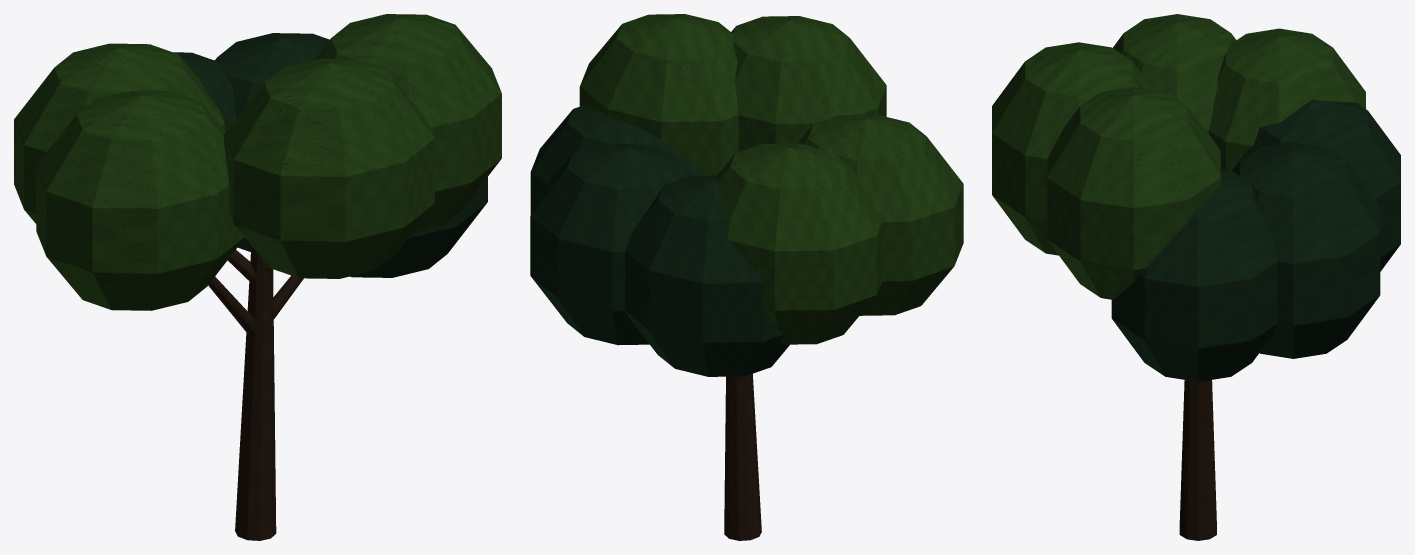
File: PROP-0D643D1E1EEE_lod1.glb
3 views of the same model, side by side, from view 1: azimuth 30°, elevation 25°; view 2: azimuth 150°, elevation 25°; view 3: azimuth 270°, elevation 25° (orthographic). The views are drawn at different scales.
Visible parts, largest first — view 1: leaf_crown.076, leaf_crown.075, trunk.070, branch.042; view 2: leaf_crown.076, leaf_crown.075, trunk.070; view 3: leaf_crown.076, leaf_crown.075, trunk.070.
Part boxes in pixels (left/top/right/bottom): leaf_crown.076: left=14, top=14, right=501, bottom=310; leaf_crown.075: left=174, top=33, right=487, bottom=277; trunk.070: left=235, top=246, right=276, bottom=540; branch.042: left=208, top=250, right=303, bottom=335; leaf_crown.076: left=579, top=14, right=963, bottom=344; leaf_crown.075: left=530, top=106, right=789, bottom=376; trunk.070: left=724, top=373, right=761, bottom=540; leaf_crown.076: left=992, top=14, right=1365, bottom=299; leaf_crown.075: left=1111, top=99, right=1400, bottom=381; trunk.070: left=1179, top=380, right=1216, bottom=540.
Size of the model in its own units: 5.89 by 6.52 by 4.96.
3 materials, 3 textured.
